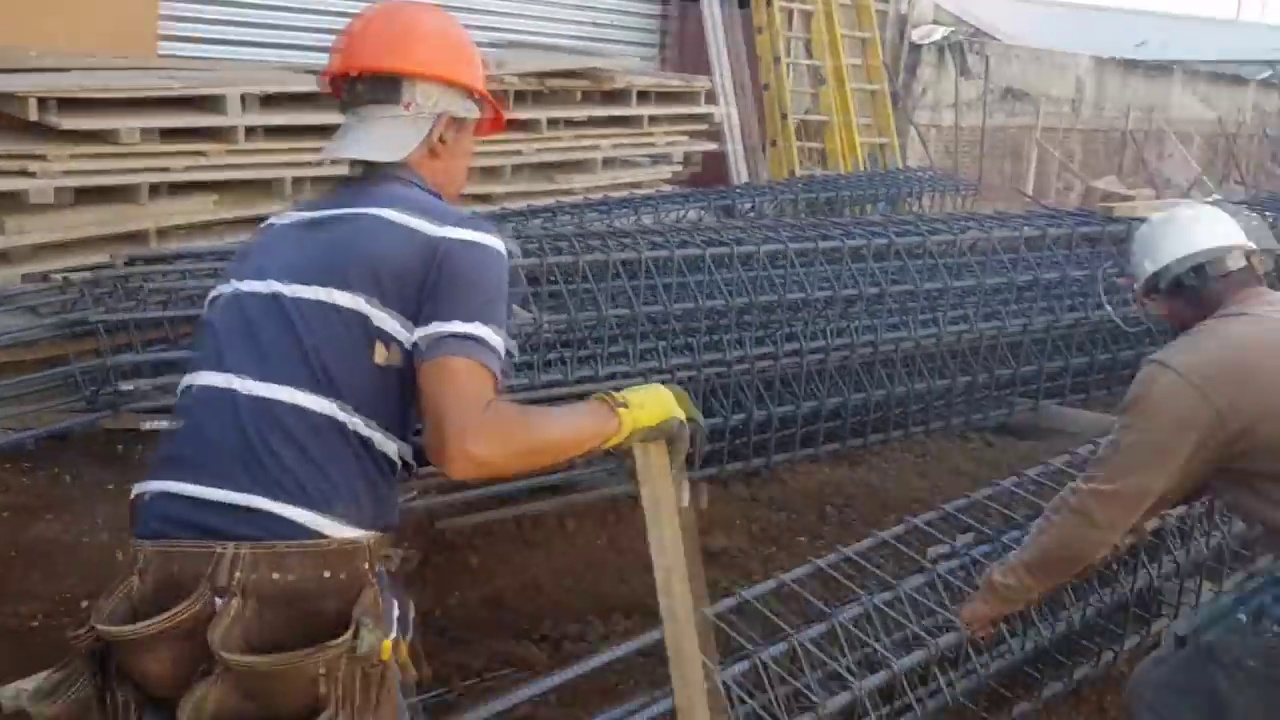helmet: (309, 4, 499, 141), (1130, 205, 1256, 295)
helmet-on: (305, 4, 500, 215), (1124, 197, 1267, 342)
person: (79, 3, 693, 719), (943, 200, 1280, 719)
